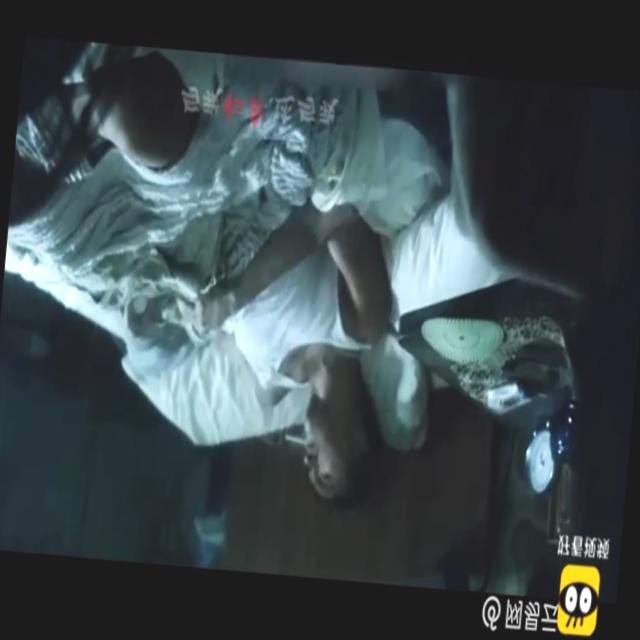cigarette: (283, 419, 312, 452)
